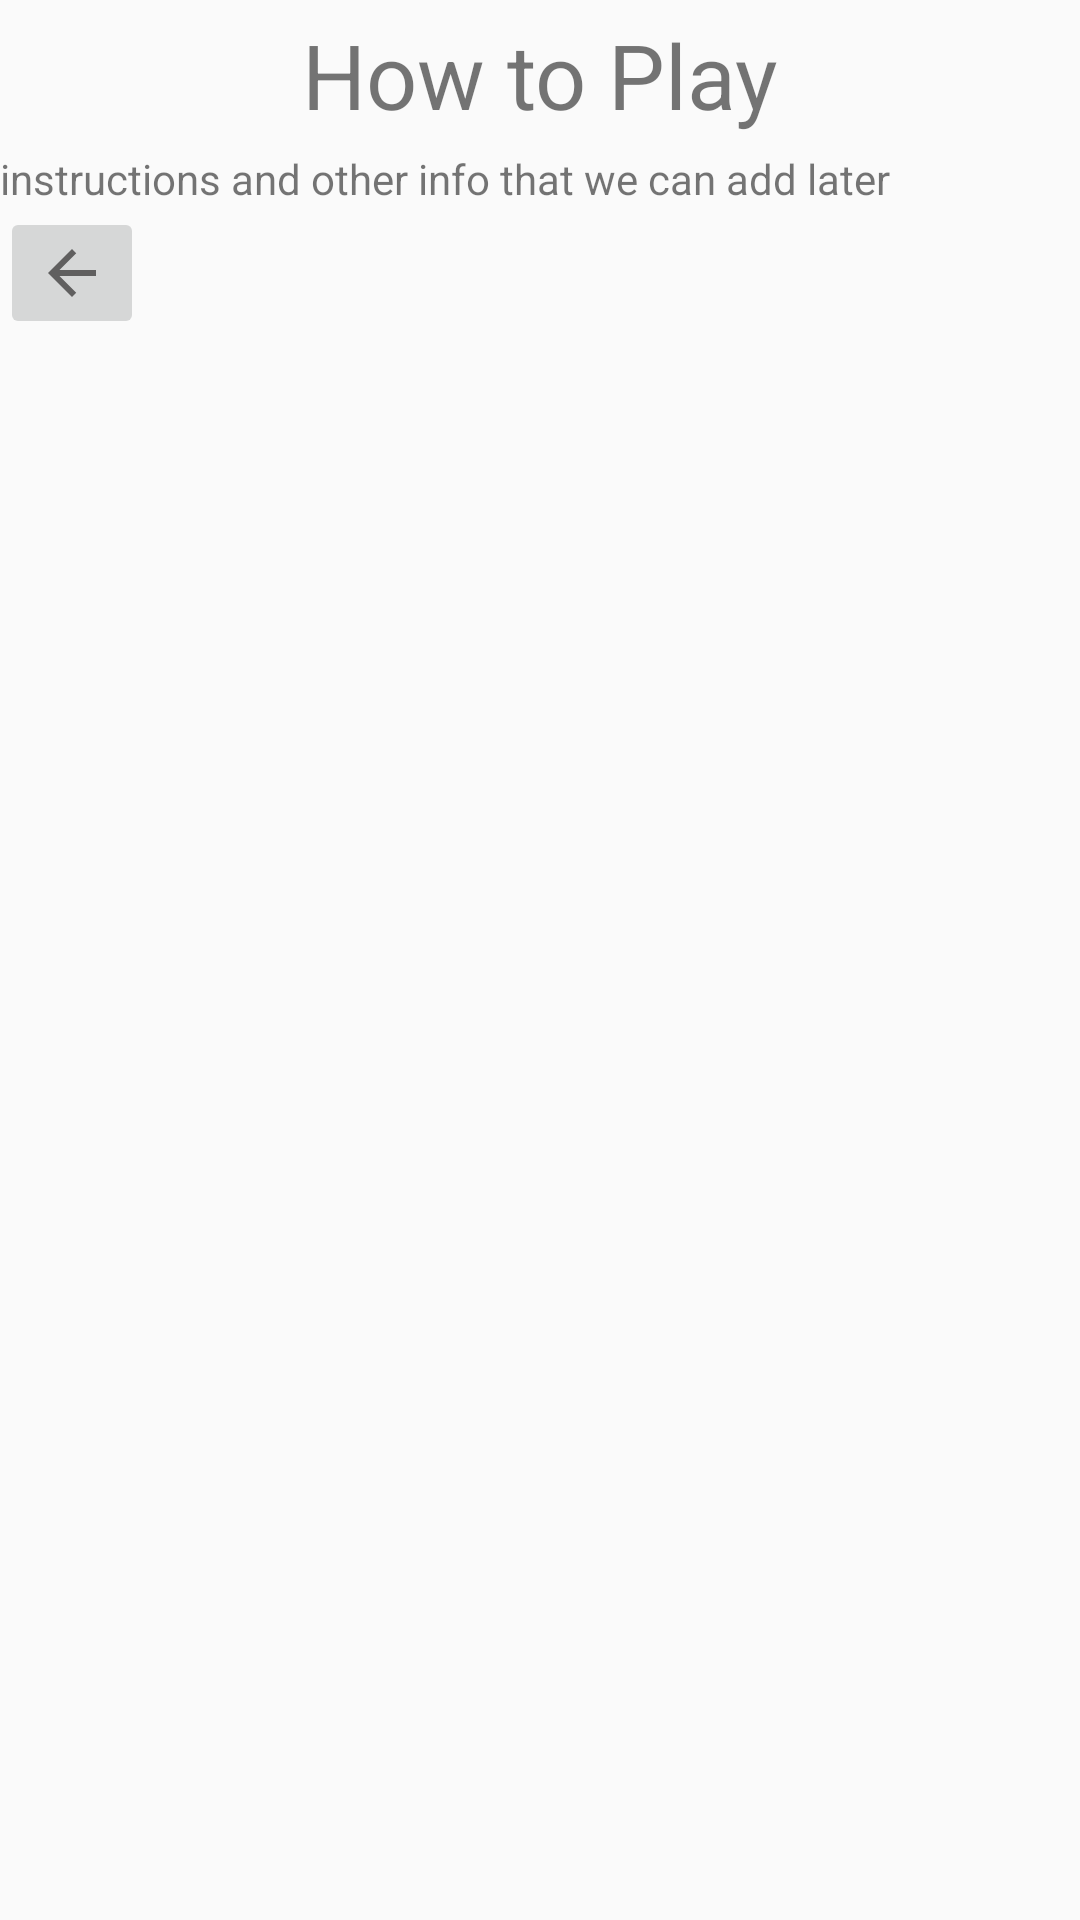

Icons on this 1080px×1920px Android screen, each with its box as Rect(x1, y1, x2, y2):
arrow back: Rect(12, 225, 132, 321)
